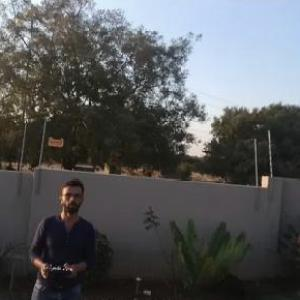follow: (22, 176, 98, 299)
